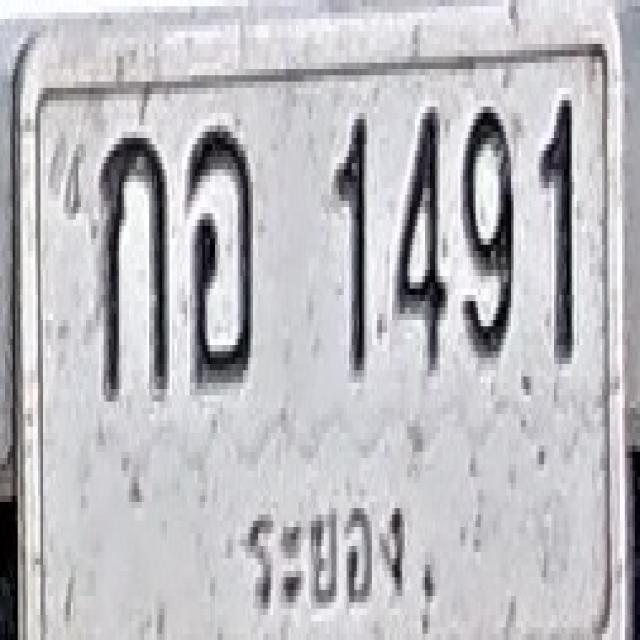1: (540, 91, 573, 361), (334, 113, 367, 376)
4: (394, 104, 446, 367)
9: (461, 100, 514, 358)
A01: (100, 128, 168, 398)
A43: (186, 122, 252, 386)
